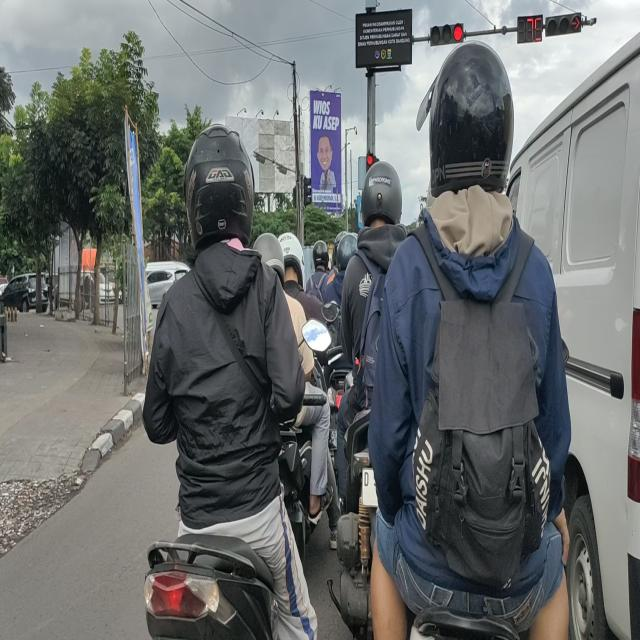helmet: (432, 52, 512, 183), (187, 140, 255, 238), (362, 167, 402, 221), (261, 232, 283, 269), (282, 234, 301, 274), (335, 233, 357, 262), (314, 243, 326, 268)
